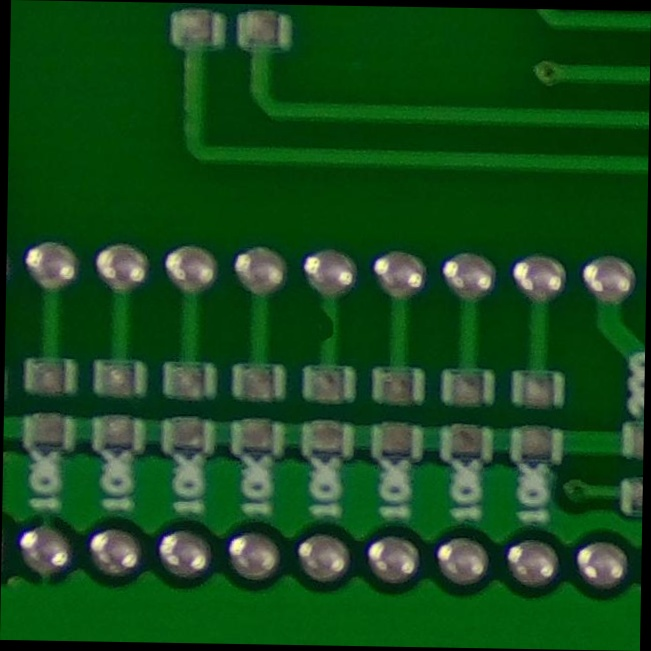mouse_bite: (307, 302, 344, 349)
